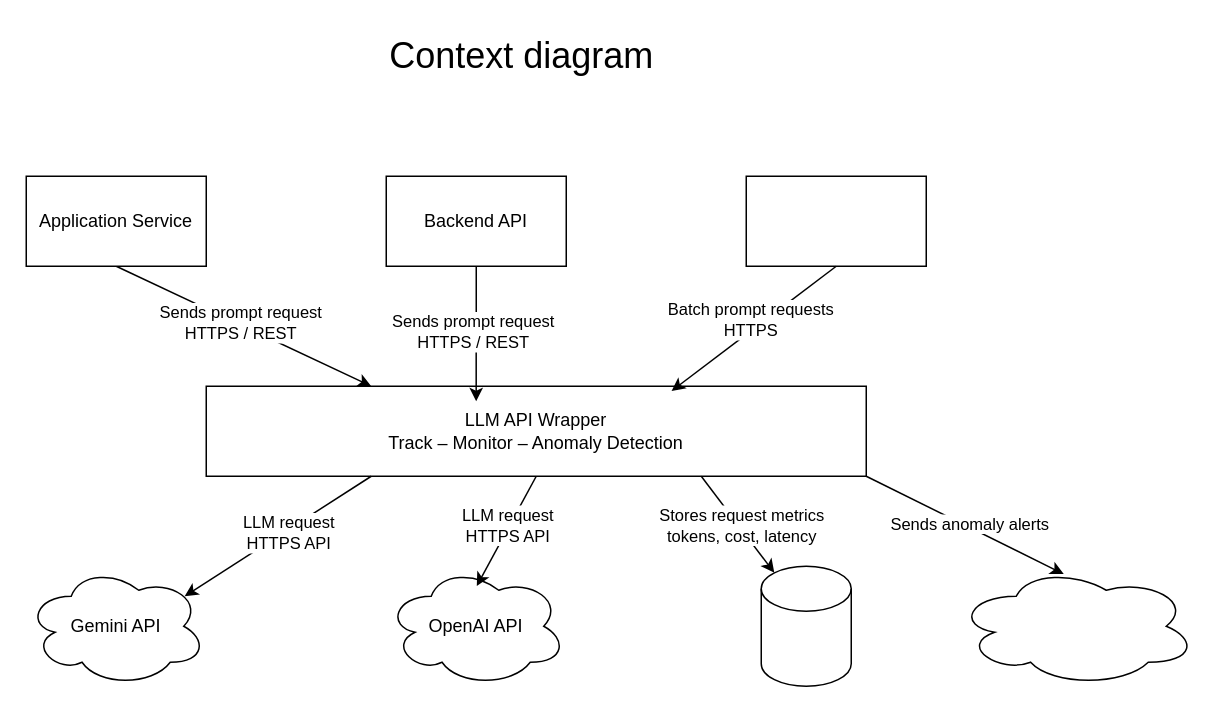
The diagram is 1223 pixels wide and 713 high, and some of its shapes have lost their labels. The shapes that lost their labels are listed below. From the top down, each one's centre as x and y in pixels, then its label:
At (835,220): "Batch Job".
At (805,625): "Metrics Database".
At (1075,625): "Alerting System (PagerDuty / Slack)".
